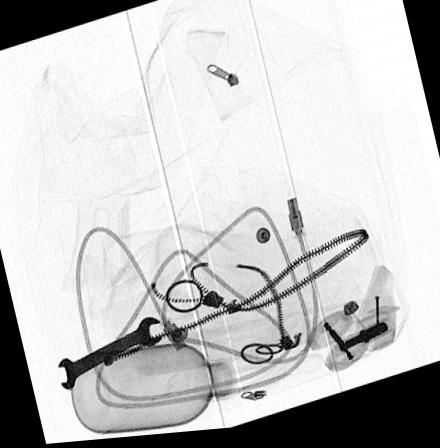Wrench: (54, 317, 163, 391)
